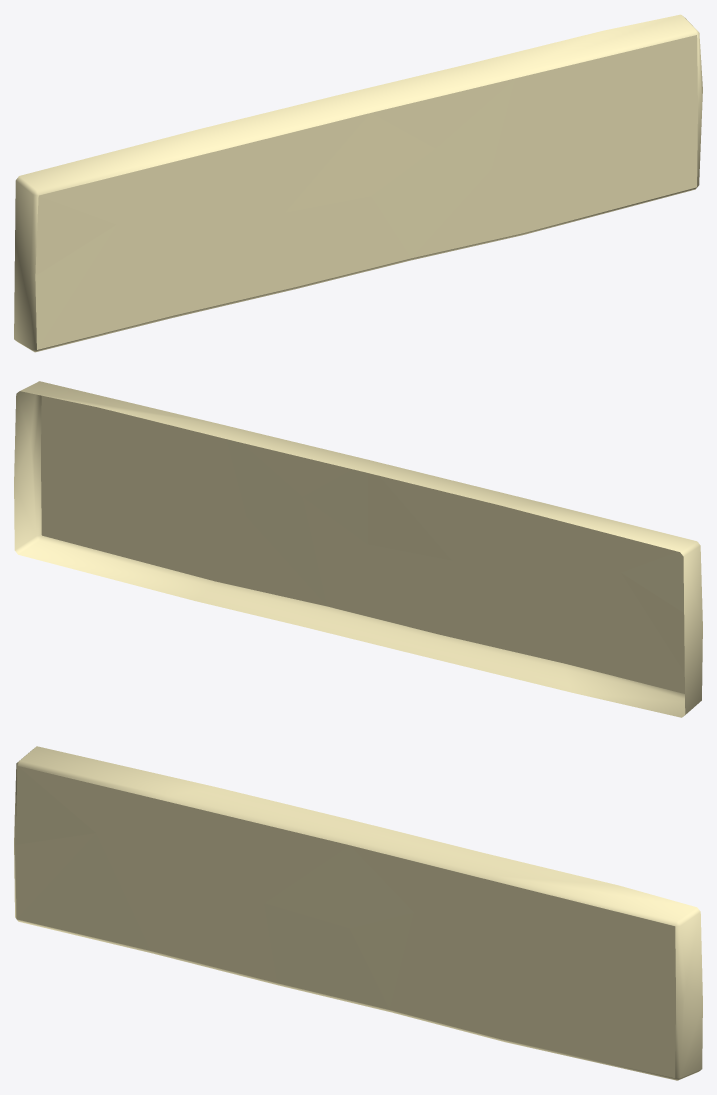
Rendered from ui_button_popup_10x3.glb.
3 views of the same model, one above another, from view 1: azimuth 30°, elevation 25°; view 2: azimuth 150°, elevation 25°; view 3: azimuth 330°, elevation 25° (orthographic).
Parts seen in each view (by area): view 1: Cube; view 2: Cube; view 3: Cube.
Part boxes in pixels (left/top/right/bottom): Cube: left=14, top=14, right=702, bottom=352; Cube: left=14, top=381, right=702, bottom=717; Cube: left=14, top=746, right=702, bottom=1080.
Bounding box in the file's own units: 2 × 0.4852 × 0.0994.
